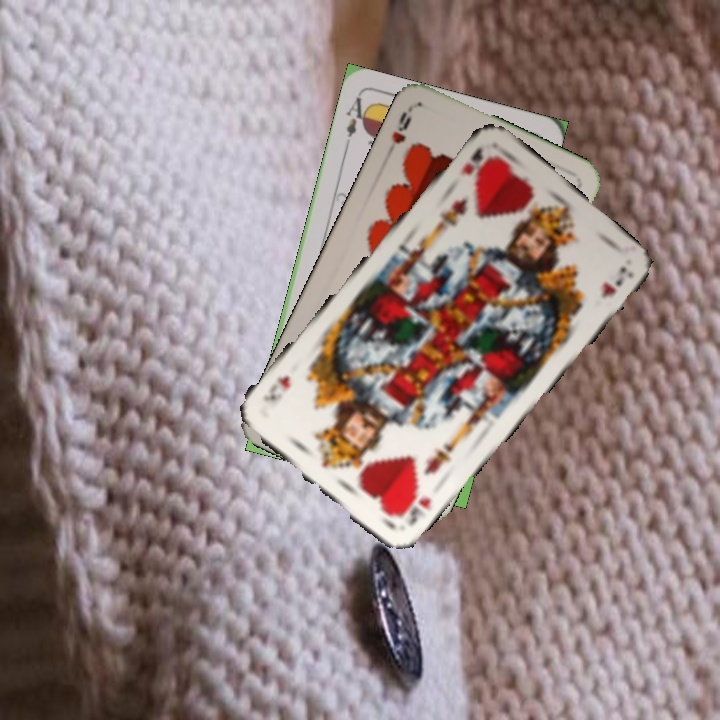EA: (341, 93, 372, 150)
H9: (388, 103, 416, 147)
HK: (390, 490, 434, 529), (456, 142, 486, 180)
